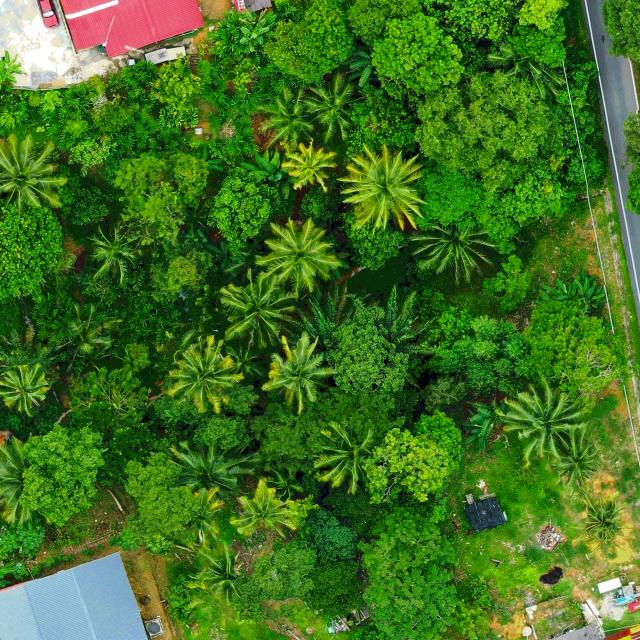Tree: (415, 70, 553, 192), (358, 504, 462, 640), (250, 390, 402, 476), (513, 298, 630, 402), (110, 151, 210, 247), (20, 422, 106, 530), (369, 11, 468, 97), (168, 432, 263, 518), (339, 143, 427, 234), (260, 0, 354, 85), (502, 380, 592, 466), (68, 370, 154, 457), (326, 305, 410, 394), (257, 216, 348, 298), (362, 428, 454, 506), (408, 210, 499, 284), (123, 451, 203, 535), (219, 266, 298, 351), (0, 204, 66, 302), (262, 333, 337, 417), (165, 337, 242, 415), (203, 166, 274, 248), (314, 417, 383, 497), (0, 136, 70, 214), (80, 218, 148, 286), (422, 0, 527, 44), (252, 84, 317, 150), (230, 480, 298, 543), (305, 69, 359, 144), (573, 492, 634, 558), (303, 552, 362, 620), (346, 0, 422, 49), (186, 538, 242, 604), (548, 427, 602, 488), (65, 298, 121, 356), (176, 484, 226, 547), (412, 408, 464, 468), (343, 224, 406, 272), (481, 254, 532, 312), (0, 362, 54, 416), (283, 142, 339, 191), (600, 0, 640, 68), (462, 401, 498, 452), (536, 276, 579, 311), (572, 270, 609, 308), (340, 48, 372, 87), (0, 49, 23, 77), (0, 59, 18, 92)
